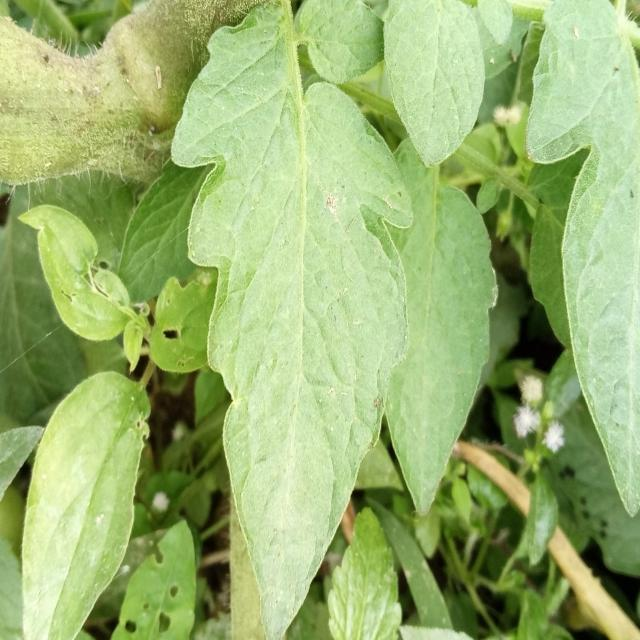Healthy: (0, 360, 160, 640), (384, 138, 500, 515)
